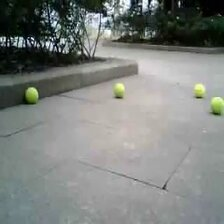tennis: (210, 96, 224, 115), (26, 87, 39, 103), (193, 83, 205, 97), (113, 83, 125, 95)
